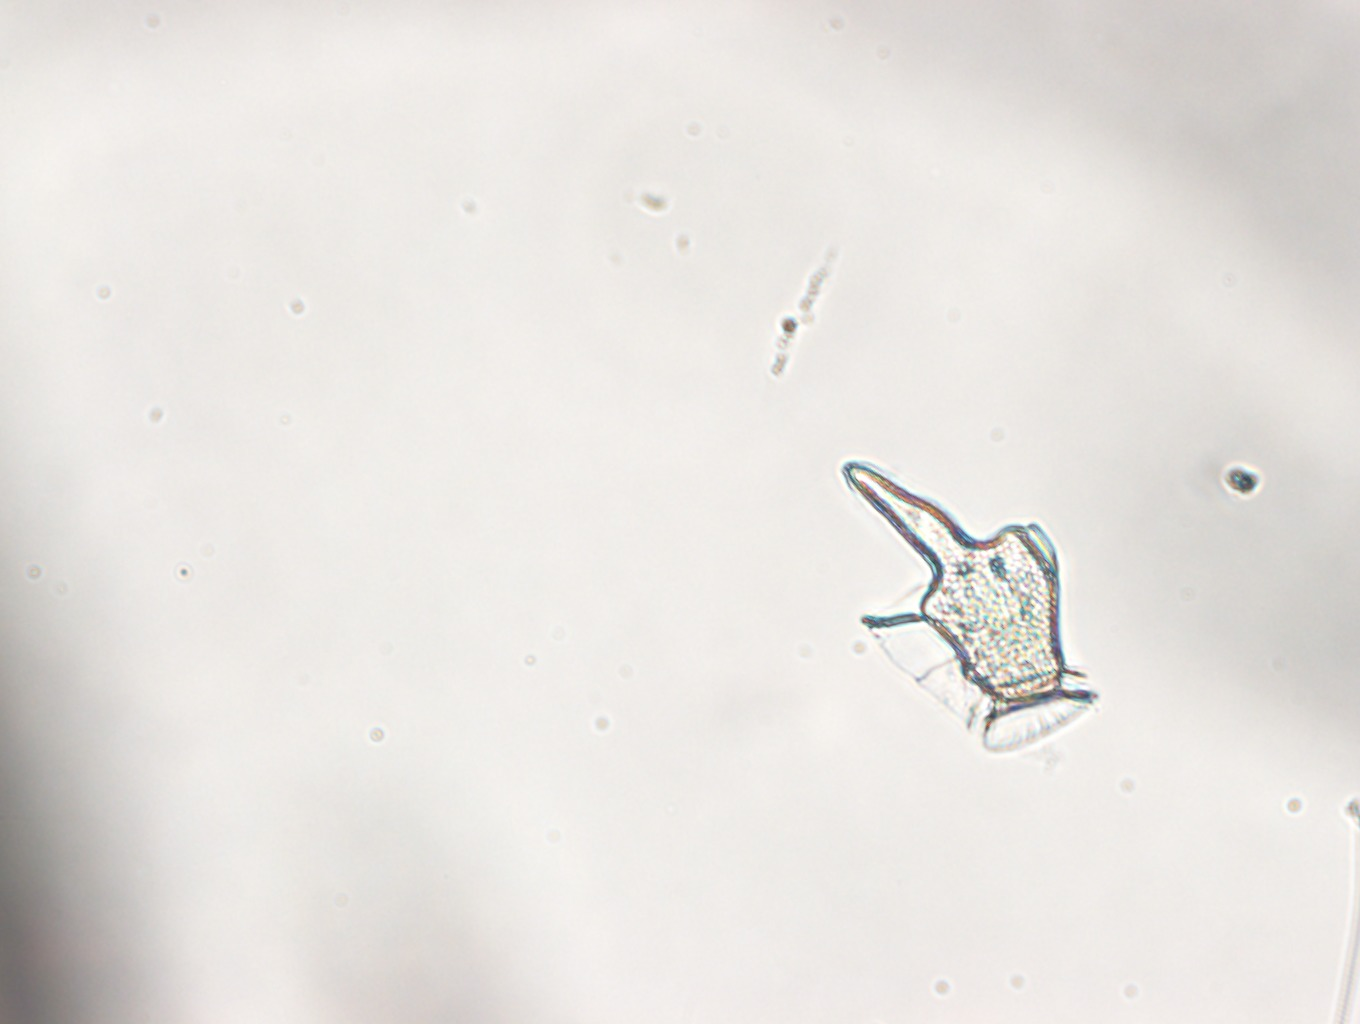dinophysis caudata: (840, 458, 1099, 752)
